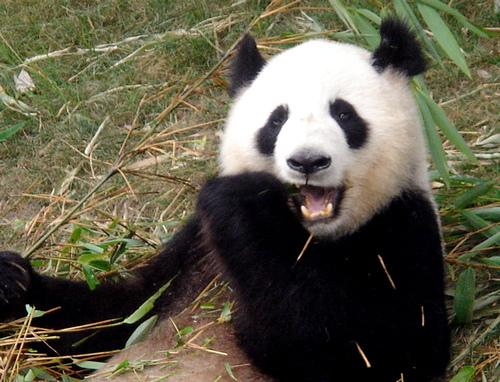panda: (0, 16, 449, 381)
